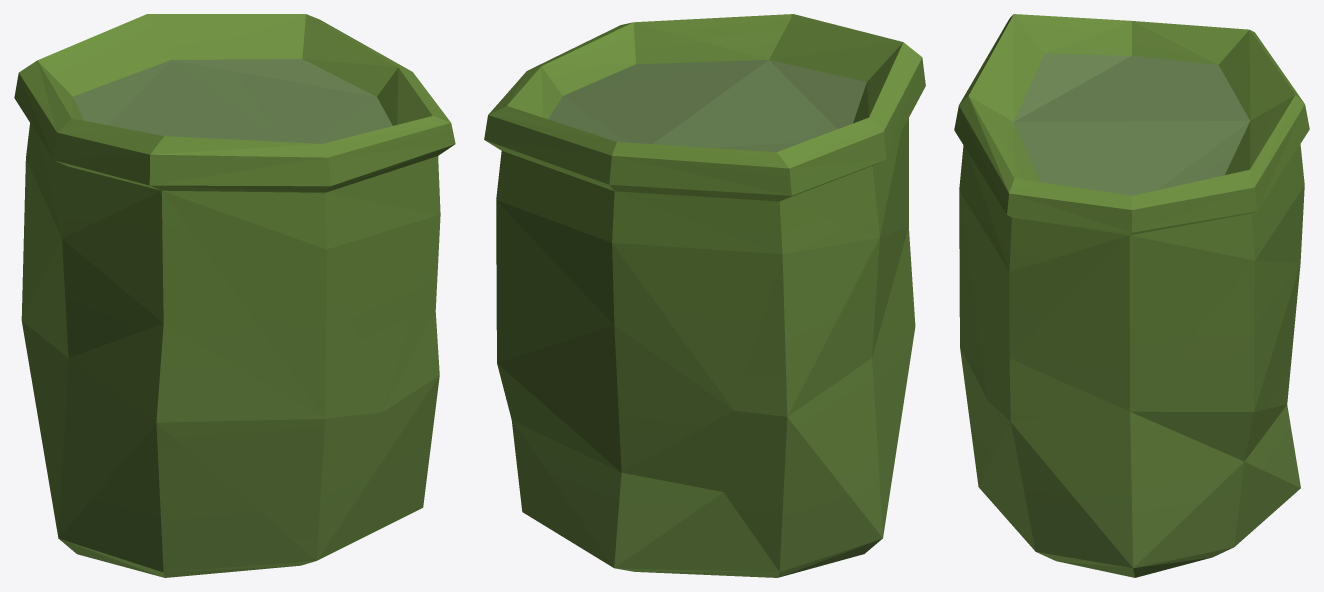
The model's file is Bag_03.fbx.
The picture shows the model from 3 angles, left to right: view 1: azimuth 30°, elevation 25°; view 2: azimuth 150°, elevation 25°; view 3: azimuth 270°, elevation 25°; orthographic projection. The views are drawn at different scales.
Parts seen in each view (by area): view 1: Bag_03; view 2: Bag_03; view 3: Bag_03.
Part boxes in pixels (box(x1,y1,x2,y2)): Bag_03: box(14, 14, 455, 577); Bag_03: box(484, 14, 925, 577); Bag_03: box(954, 14, 1309, 577).
Size of the model in its own units: 0.5619 by 0.6877 by 0.5149.
